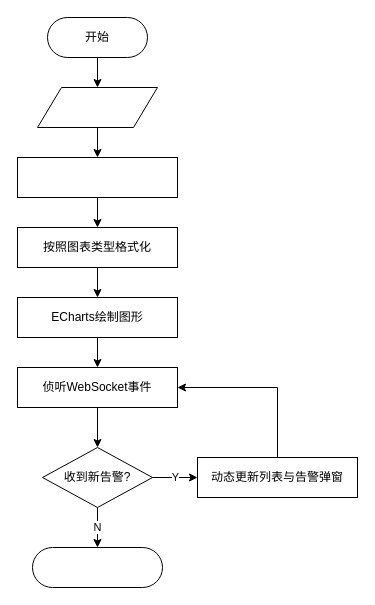
This 375x605 diagram has some shape labels left out. Here are the shapes that lost their labels. From the top down, the centre of each, then its label:
At point 97,107: "携带JWT请求接口".
At point 97,177: "聚合查询统计表和日志库".
At point 97,567: "返回大屏状态 / 结束".
